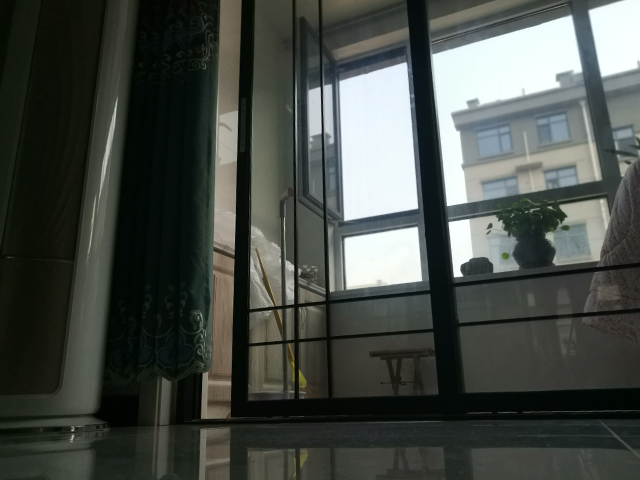cabinet: (203, 237, 333, 420)
curtain: (102, 1, 222, 387)
stool: (366, 347, 438, 396)
